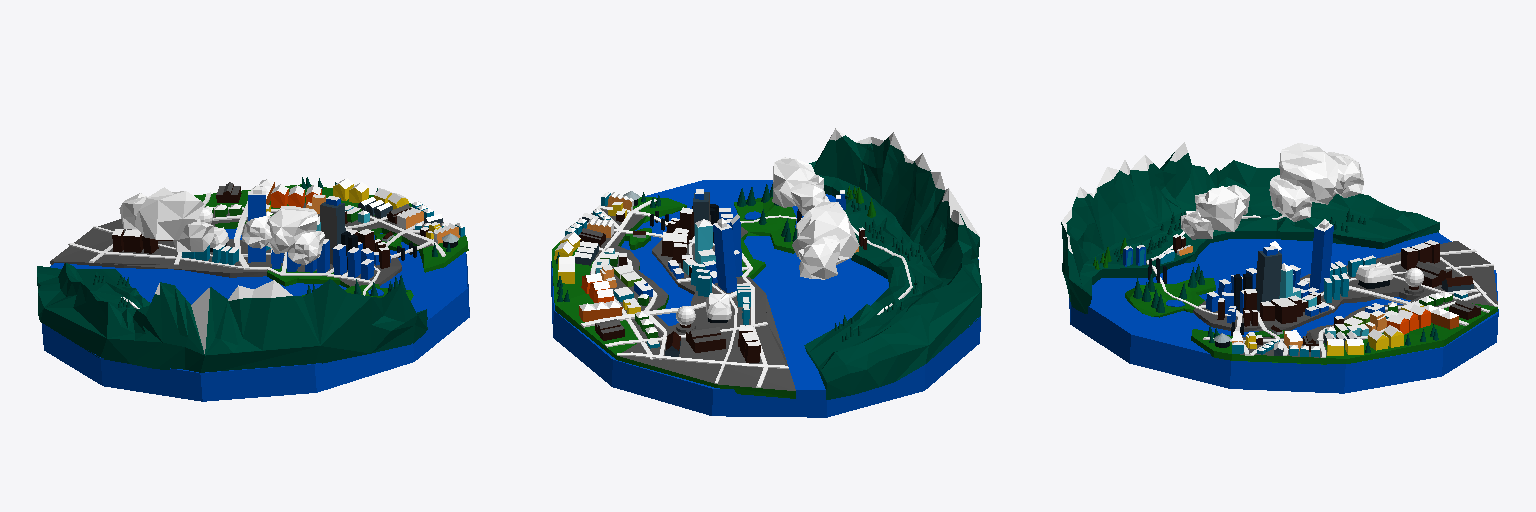
3 renders of one model, left to right at view 1: azimuth 30°, elevation 25°; view 2: azimuth 150°, elevation 25°; view 3: azimuth 270°, elevation 25°, orthographic.
Visible parts, largest first — view 1: group[number redacted], group[number redacted], group[number redacted], group[number redacted], group[number redacted], group[number redacted], group[number redacted], group[number redacted], group[number redacted], group[number redacted], group[number redacted], group[number redacted]; view 2: group[number redacted], group[number redacted], group[number redacted], group[number redacted], group[number redacted], group[number redacted], group[number redacted], group[number redacted], group[number redacted], group[number redacted], group[number redacted], group[number redacted] (+2 smaller); view 3: group[number redacted], group[number redacted], group[number redacted], group[number redacted], group[number redacted], group[number redacted], group[number redacted], group[number redacted], group[number redacted], group[number redacted], group[number redacted], group[number redacted].
Boxes of the visible parts, x1,y1,x2,y2 form: group[number redacted]: [37, 263, 427, 372]; group[number redacted]: [42, 228, 469, 401]; group[number redacted]: [50, 184, 468, 300]; group[number redacted]: [135, 187, 204, 239]; group[number redacted]: [267, 207, 317, 253]; group[number redacted]: [320, 196, 345, 264]; group[number redacted]: [173, 218, 213, 251]; group[number redacted]: [68, 243, 371, 283]; group[number redacted]: [288, 231, 324, 264]; group[number redacted]: [248, 185, 265, 262]; group[number redacted]: [242, 216, 271, 248]; group[number redacted]: [119, 193, 147, 228]; group[number redacted]: [804, 128, 981, 399]; group[number redacted]: [551, 180, 980, 417]; group[number redacted]: [552, 197, 795, 398]; group[number redacted]: [792, 202, 859, 264]; group[number redacted]: [772, 157, 823, 207]; group[number redacted]: [798, 235, 840, 279]; group[number redacted]: [713, 218, 736, 292]; group[number redacted]: [686, 326, 725, 352]; group[number redacted]: [791, 183, 829, 215]; group[number redacted]: [689, 215, 912, 383]; group[number redacted]: [695, 219, 715, 263]; group[number redacted]: [706, 293, 731, 322]; group[number redacted]: [1069, 232, 1498, 393]; group[number redacted]: [1061, 142, 1439, 313]; group[number redacted]: [1125, 241, 1497, 364]; group[number redacted]: [1279, 143, 1337, 204]; group[number redacted]: [1195, 186, 1245, 231]; group[number redacted]: [1269, 175, 1311, 221]; group[number redacted]: [1255, 246, 1281, 310]; group[number redacted]: [1309, 219, 1333, 292]; group[number redacted]: [1327, 152, 1363, 197]; group[number redacted]: [1356, 262, 1392, 288]; group[number redacted]: [1181, 210, 1213, 239]; group[number redacted]: [1415, 261, 1451, 287].
Bounding box in the file's own units: 2.93 × 1.07 × 2.97.